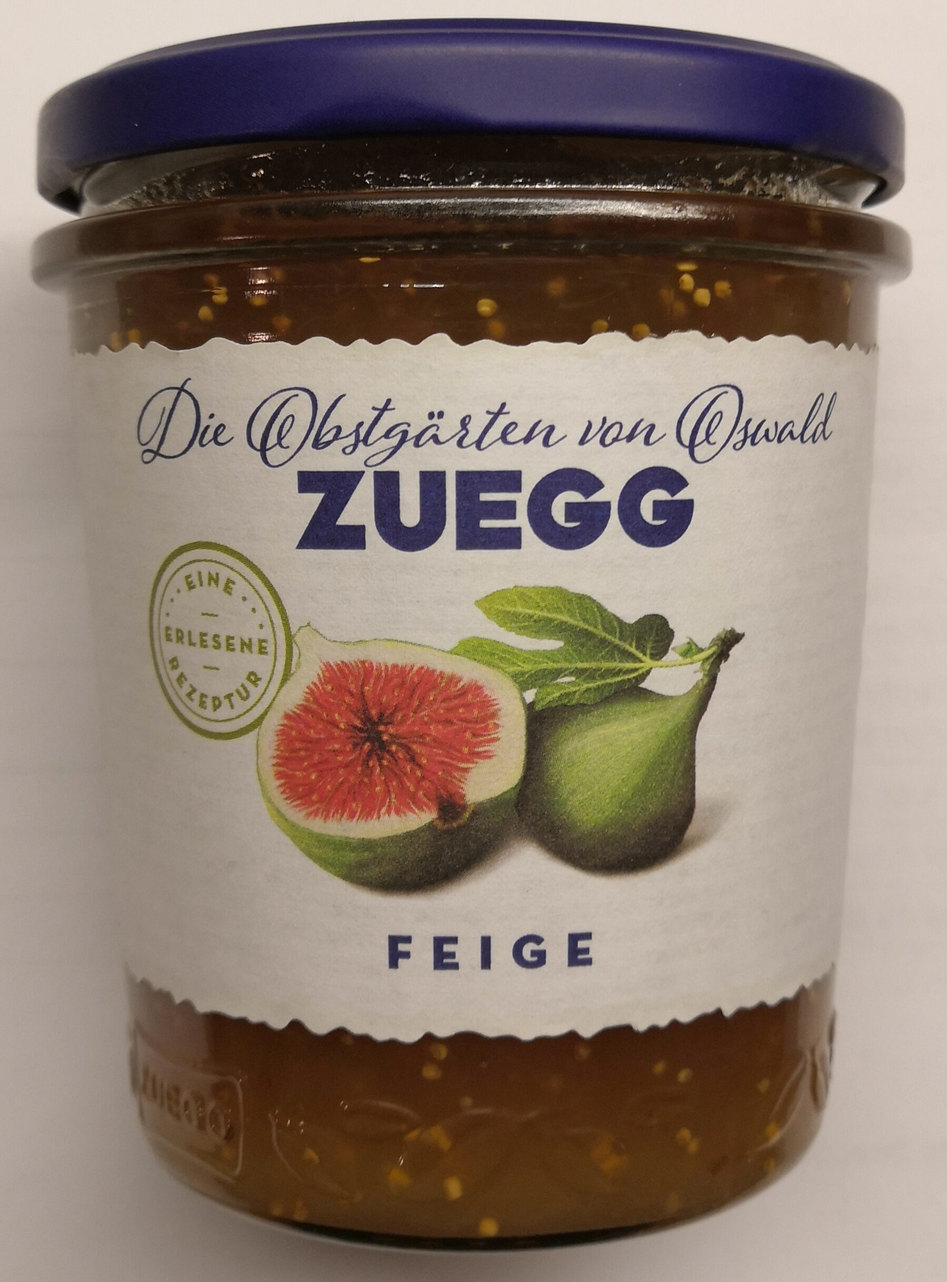Marmelade Feige: (47, 64, 900, 1218)
